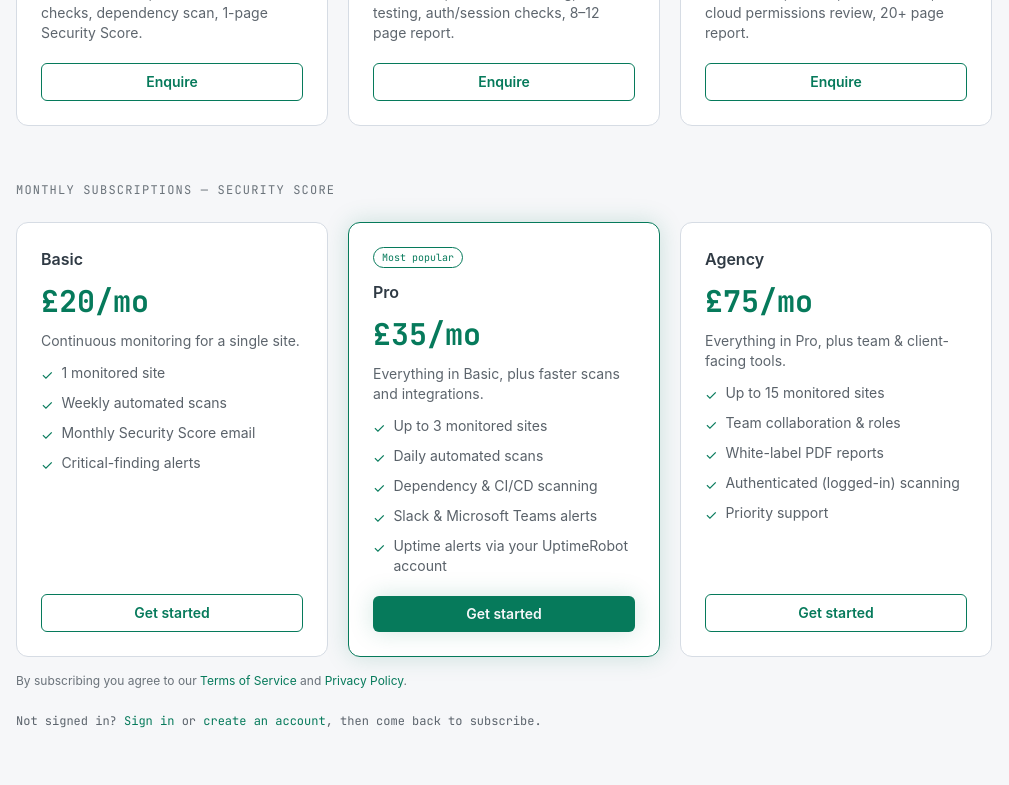
Test: pricing page checkout › offers a way to get in touch when online sign-up isn't open
The width and height of the screenshot is (1009, 785).
(page scrolled)
Click the button "Get started" below "Critical-finding alerts": x=172, y=613 left=41, top=594, right=303, bottom=632
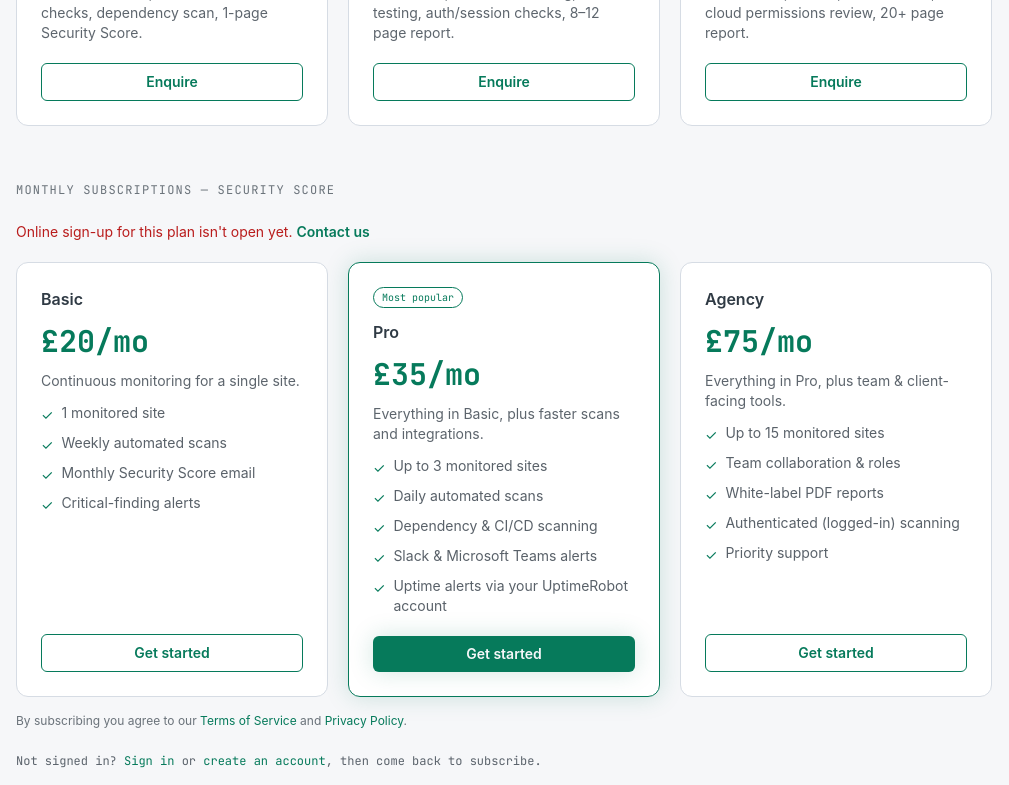
Check: the message shows "isn't open yet", box left=16, top=223, right=292, bottom=240
